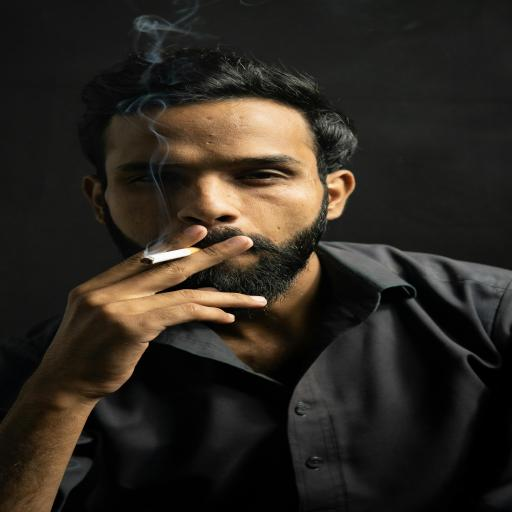merokok: (104, 128, 280, 284)
